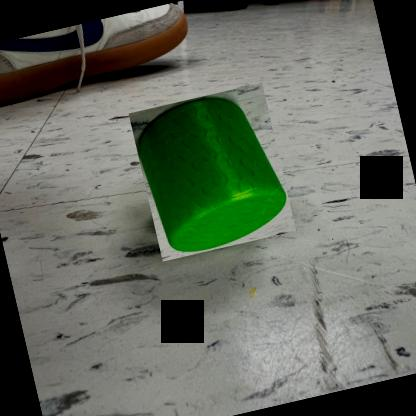green cylinder: (129, 83, 296, 261)
